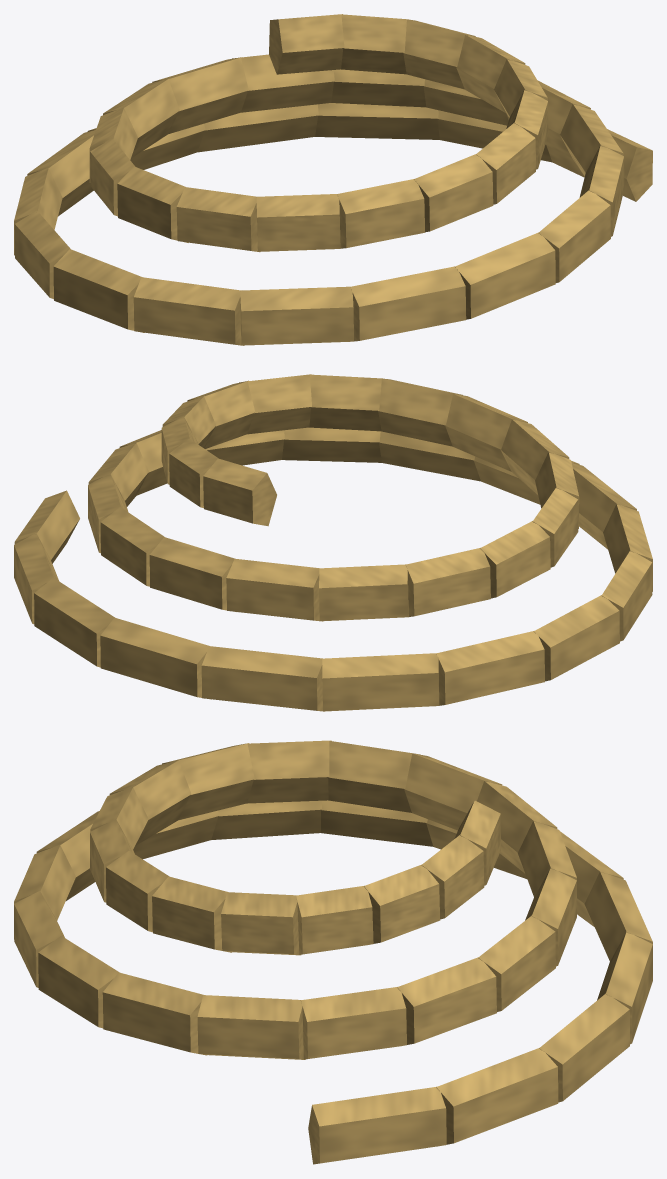
Rendered from rope_coil.fbx.
3 views of the same model, one above another, from view 1: azimuth 30°, elevation 25°; view 2: azimuth 150°, elevation 25°; view 3: azimuth 270°, elevation 25° (orthographic). The views are drawn at different scales.
Visible parts, largest first — view 1: rope_coil; view 2: rope_coil; view 3: rope_coil.
Boxes of the visible parts, bbox=[...] form: rope_coil: bbox=[14, 14, 652, 345]; rope_coil: bbox=[14, 374, 652, 711]; rope_coil: bbox=[14, 740, 652, 1164].
Bounding box in the file's own units: 86 × 27 × 73.
1 material, 1 textured.
